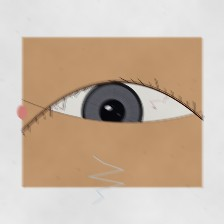foreign_body_visible: (50, 112, 80, 136)
